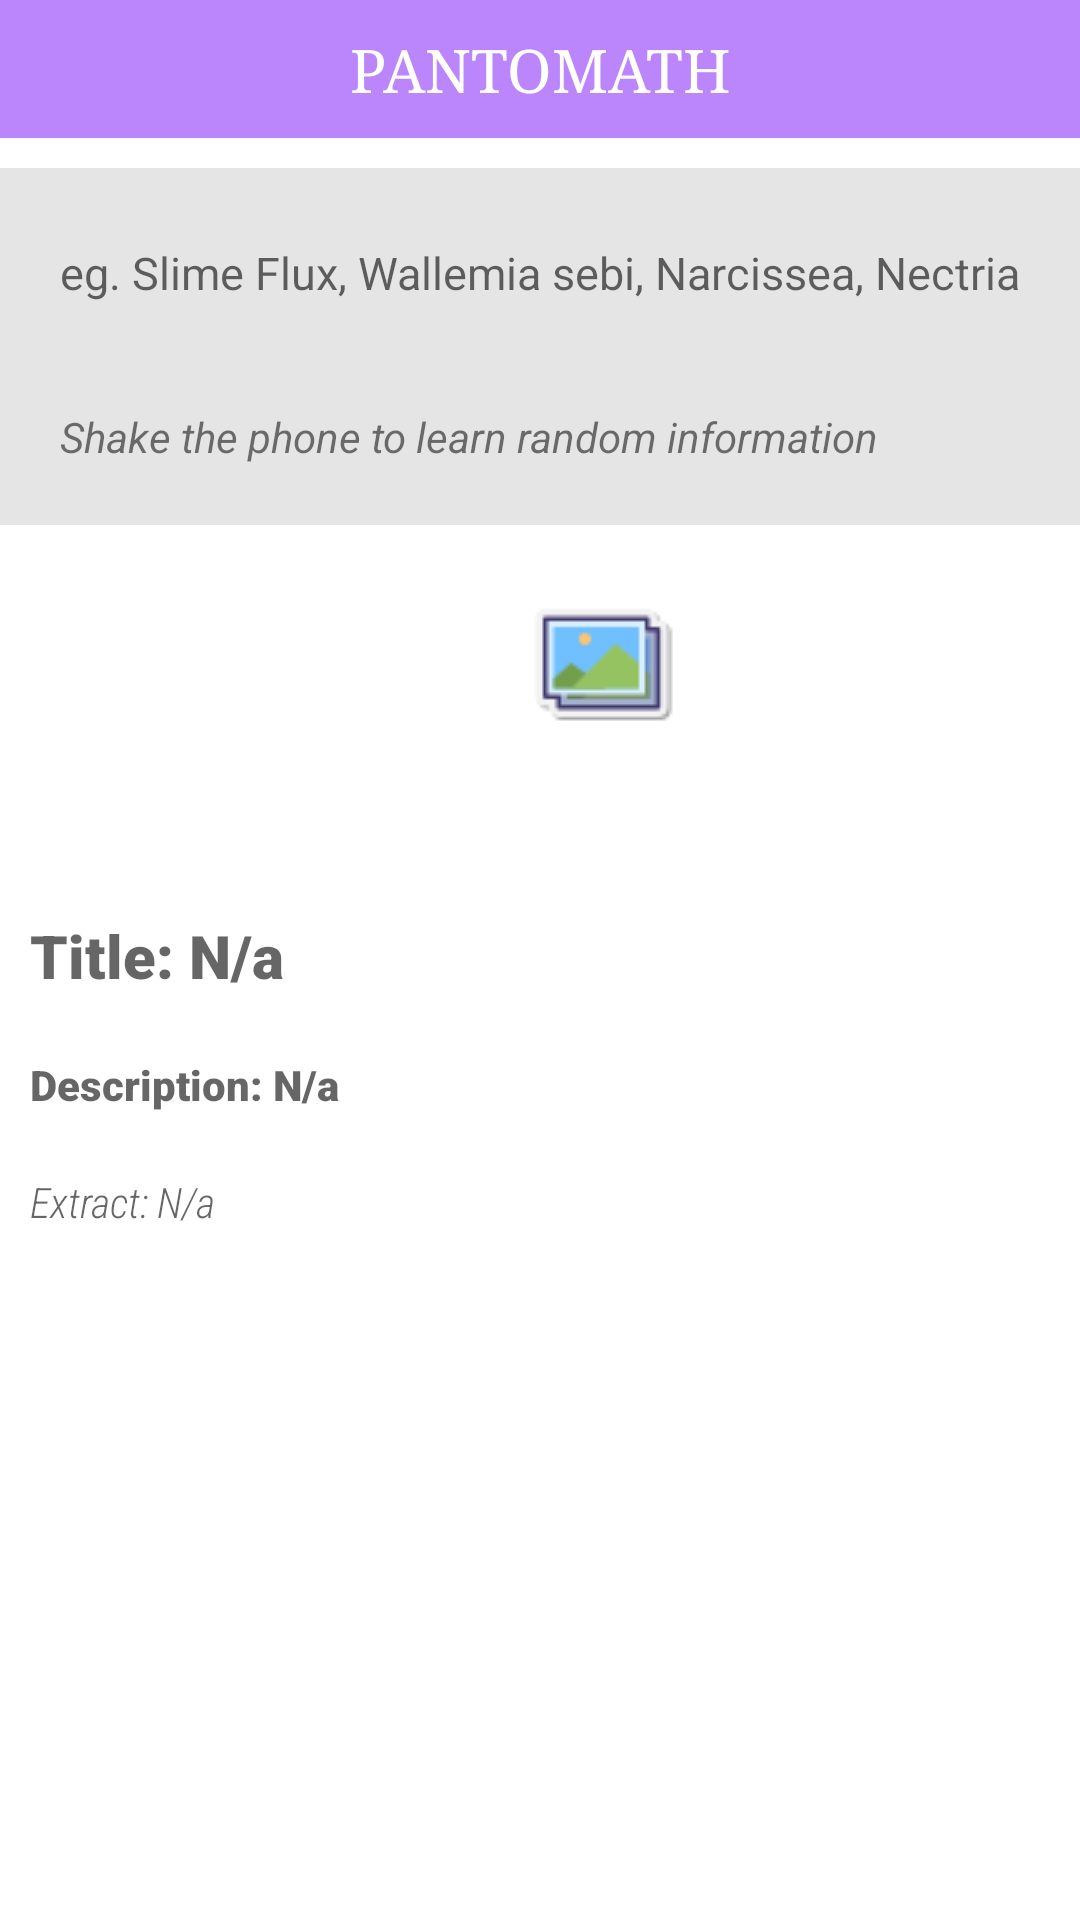

Icons on this 1080px×1920px Android screen, each with its box as [x1,y1,x2,y2]:
gallery: [540,613,672,721]
